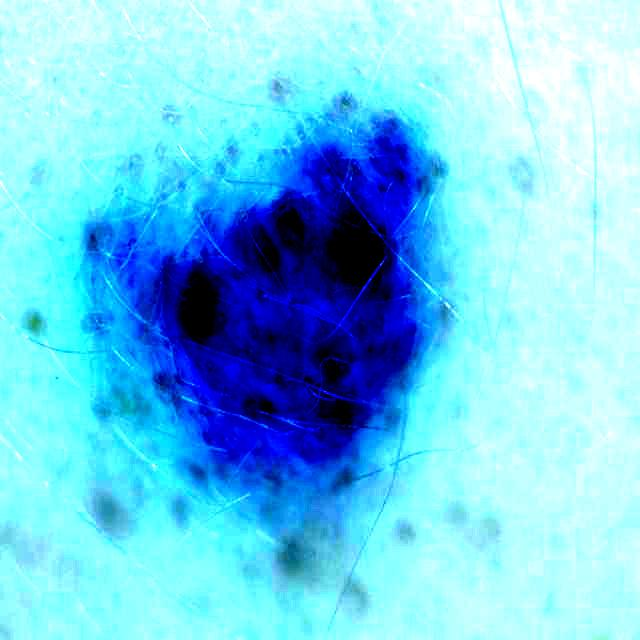VASC: (125, 114, 516, 484), (166, 115, 418, 453)
